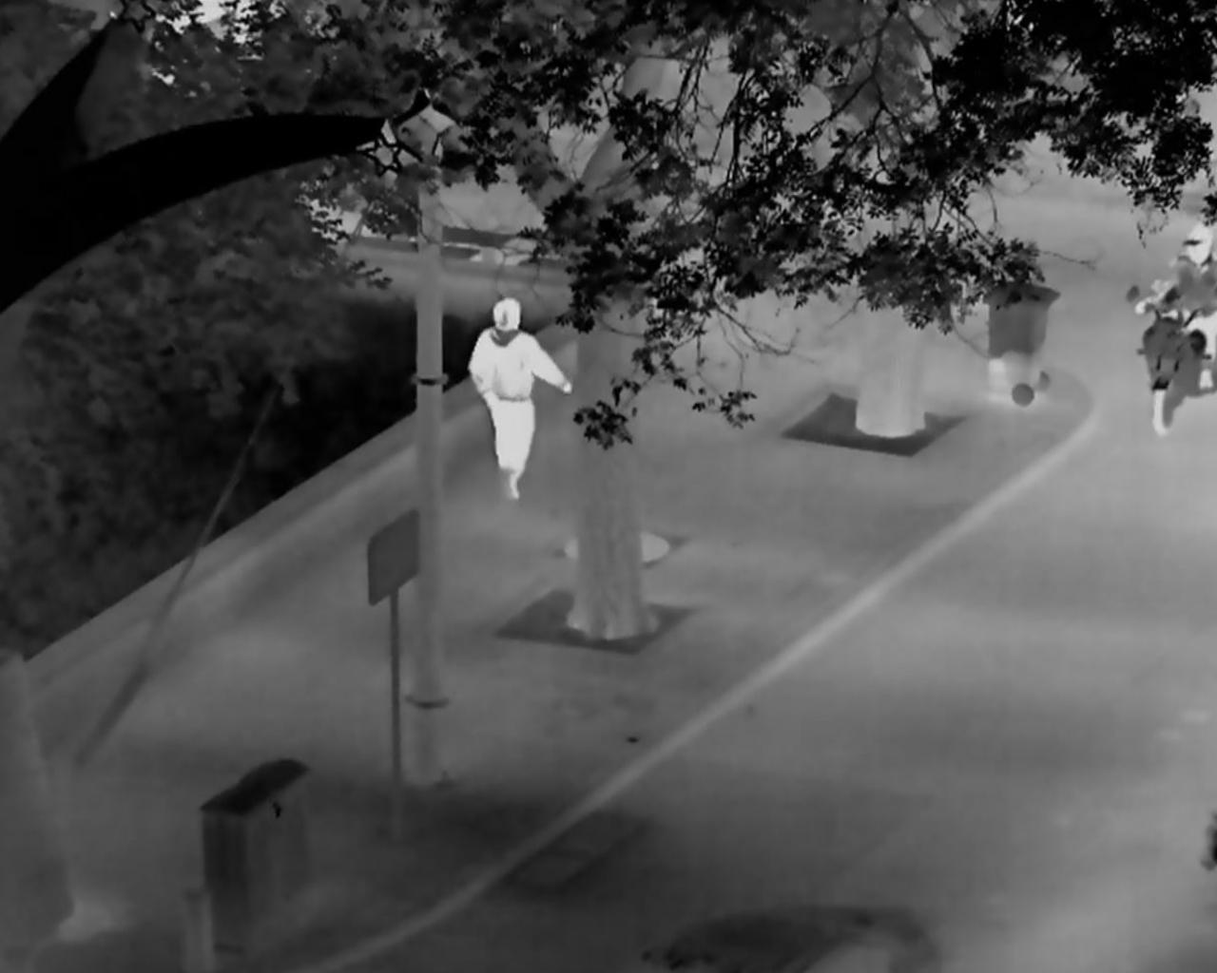person: (466, 296, 574, 501), (1133, 221, 1217, 396)
